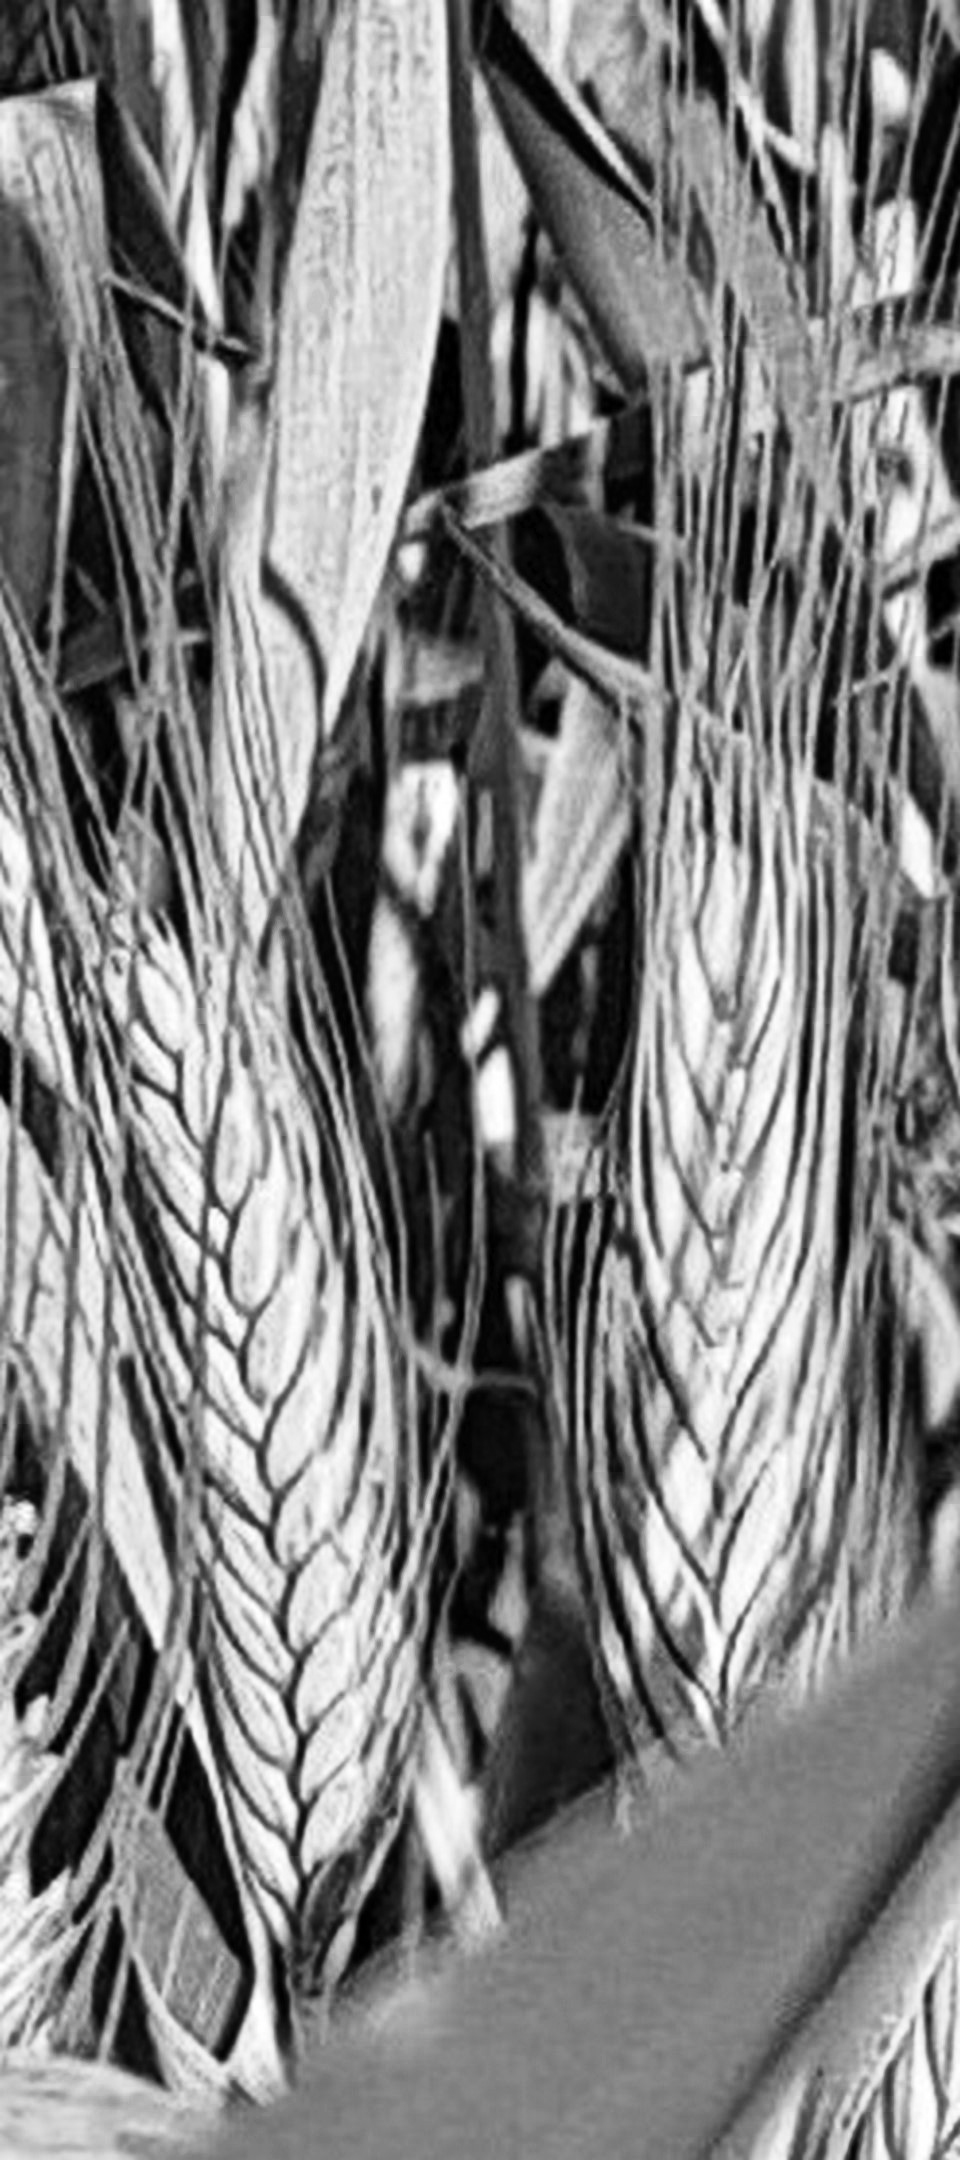Healthy Wheat: (65, 898, 516, 1922)
